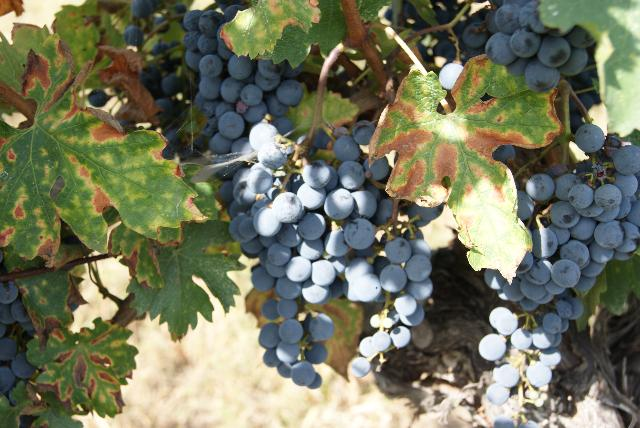grapes: (479, 122, 640, 428), (220, 122, 392, 389), (182, 5, 301, 155), (345, 231, 432, 378)
